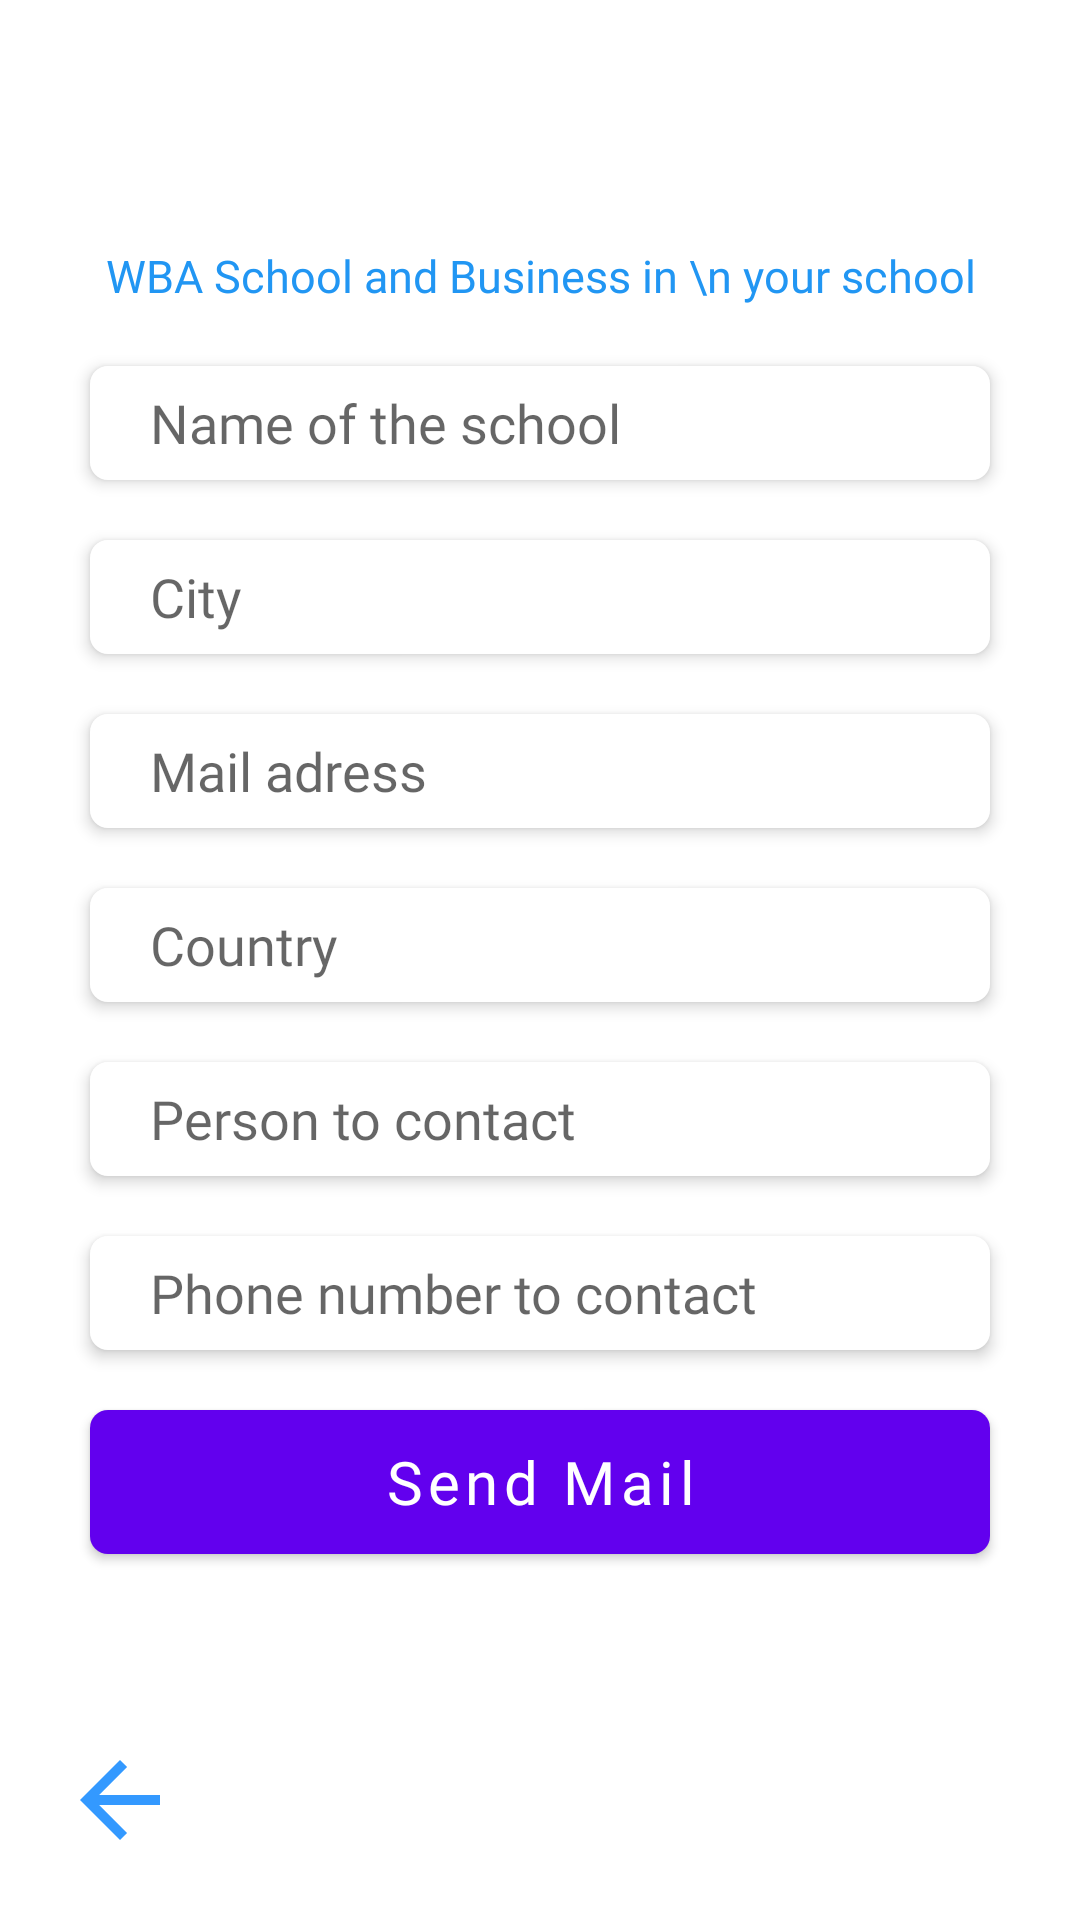

Icons on this 1080px x 1920px Android screen, each with the point to tap as point (x, y):
back: point (120, 1800)
